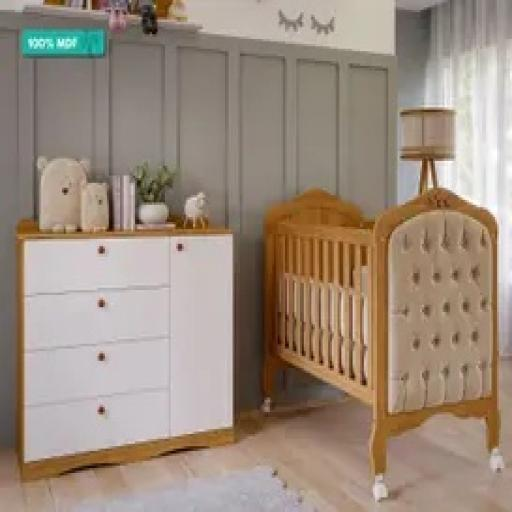crib: (260, 188, 504, 500)
